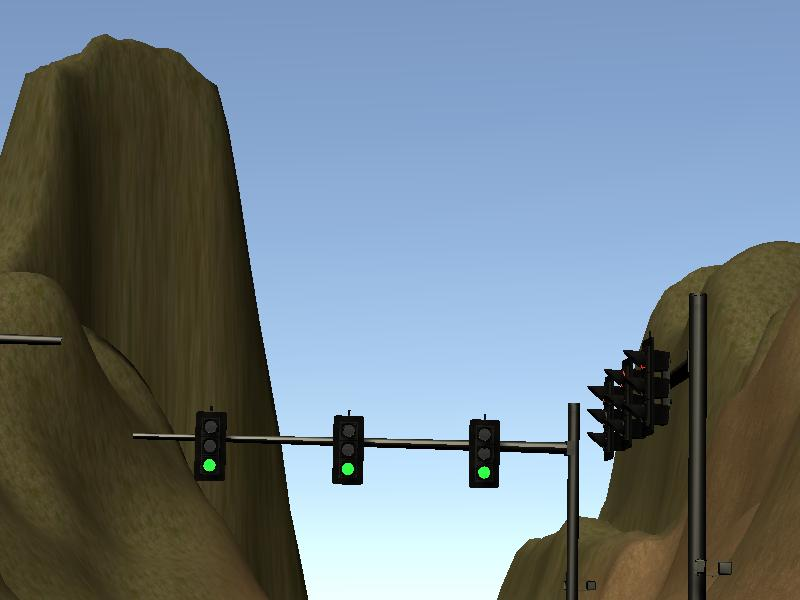green: (191, 409, 227, 483), (330, 414, 366, 488), (466, 415, 502, 489)
